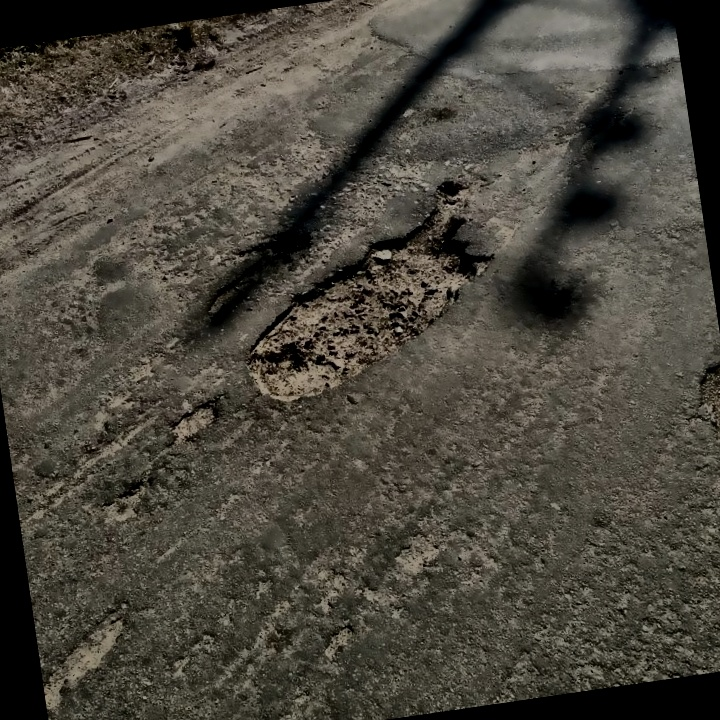pothole: (227, 171, 512, 411), (32, 596, 147, 709), (193, 223, 324, 322), (159, 395, 230, 447), (691, 358, 720, 451)
